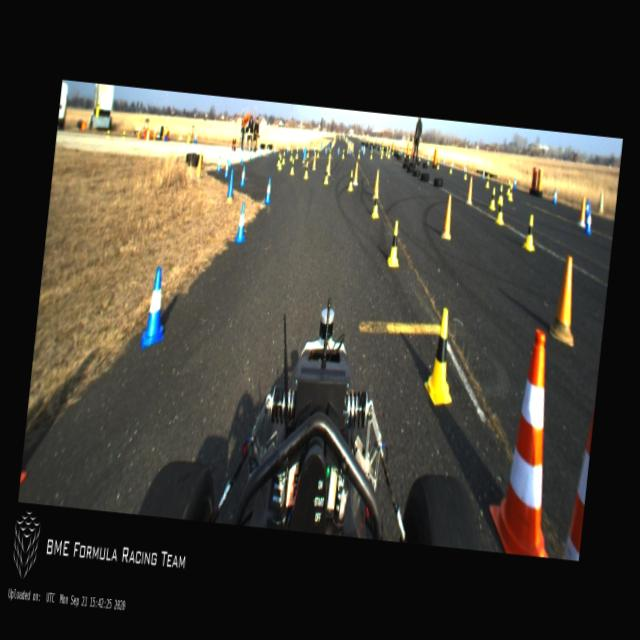blue_cone: (138, 267, 170, 352), (234, 202, 248, 244), (584, 209, 594, 234), (264, 177, 272, 205), (238, 164, 246, 186), (551, 187, 558, 206), (224, 158, 230, 178), (216, 154, 222, 172), (239, 148, 244, 164), (512, 176, 517, 189), (258, 144, 262, 158), (250, 148, 253, 161)
large_orange_cone: (483, 324, 572, 557)
yellow_cone: (422, 306, 462, 406), (386, 220, 403, 268), (522, 212, 538, 252), (495, 197, 506, 225), (371, 188, 381, 218), (489, 187, 497, 211), (496, 183, 504, 205), (347, 170, 355, 190), (324, 164, 331, 184), (303, 160, 309, 180), (508, 182, 514, 202), (290, 157, 296, 176), (484, 172, 490, 188), (506, 180, 511, 197), (288, 146, 294, 160), (463, 166, 468, 181), (448, 162, 453, 175), (278, 154, 282, 170), (276, 152, 280, 168), (282, 150, 286, 166), (306, 147, 310, 160), (295, 146, 299, 158), (369, 149, 373, 160), (316, 148, 320, 158), (357, 150, 360, 158), (342, 148, 344, 158)
